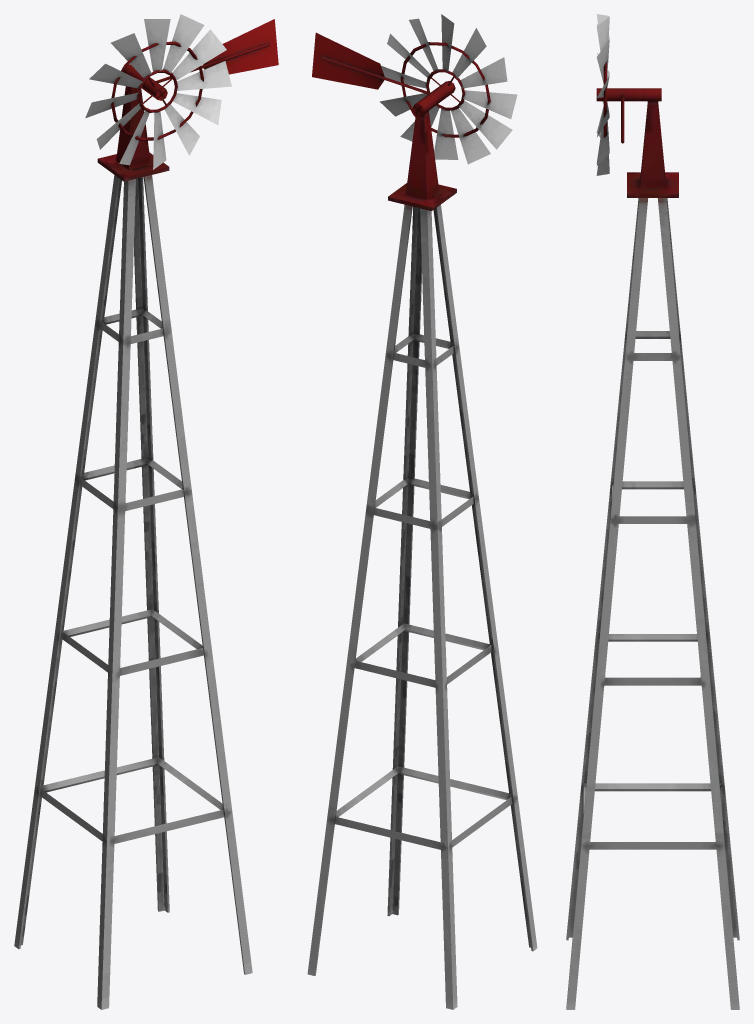
3 renders of one model, left to right at view 1: azimuth 30°, elevation 25°; view 2: azimuth 150°, elevation 25°; view 3: azimuth 270°, elevation 25°, orthographic. The views are drawn at different scales.
Parts seen in each view (by area): view 1: body0_model0_lod0_mesh0; view 2: body0_model0_lod0_mesh0; view 3: body0_model0_lod0_mesh0.
Boxes of the visible parts, bbox=[...] form: body0_model0_lod0_mesh0: bbox=[14, 14, 278, 1009]; body0_model0_lod0_mesh0: bbox=[307, 14, 537, 1009]; body0_model0_lod0_mesh0: bbox=[566, 14, 739, 1009].
Bounding box in the file's own units: 13.6 × 60.64 × 10.
1 material, 1 textured.
